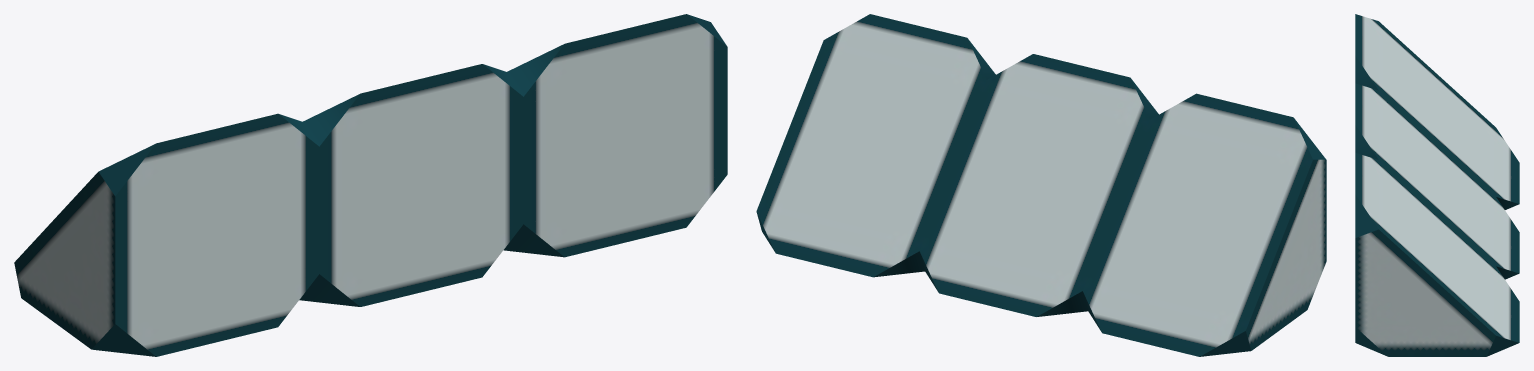
The model's file is MG-ChangJing-CeShi-LiFangPo-3.FBX.
3 renders of one model, left to right at view 1: azimuth 30°, elevation 25°; view 2: azimuth 150°, elevation 25°; view 3: azimuth 270°, elevation 25°, orthographic. The views are drawn at different scales.
Visible parts, largest first — view 1: MG-ChangJing-CeShi-LiFangPo-3; view 2: MG-ChangJing-CeShi-LiFangPo-3; view 3: MG-ChangJing-CeShi-LiFangPo-3.
Boxes of the visible parts, x1,y1,x2,y2 form: MG-ChangJing-CeShi-LiFangPo-3: [14, 14, 727, 356]; MG-ChangJing-CeShi-LiFangPo-3: [756, 14, 1326, 356]; MG-ChangJing-CeShi-LiFangPo-3: [1355, 14, 1519, 356].
Size of the model in its own units: 47.24 by 15.75 by 15.75.
